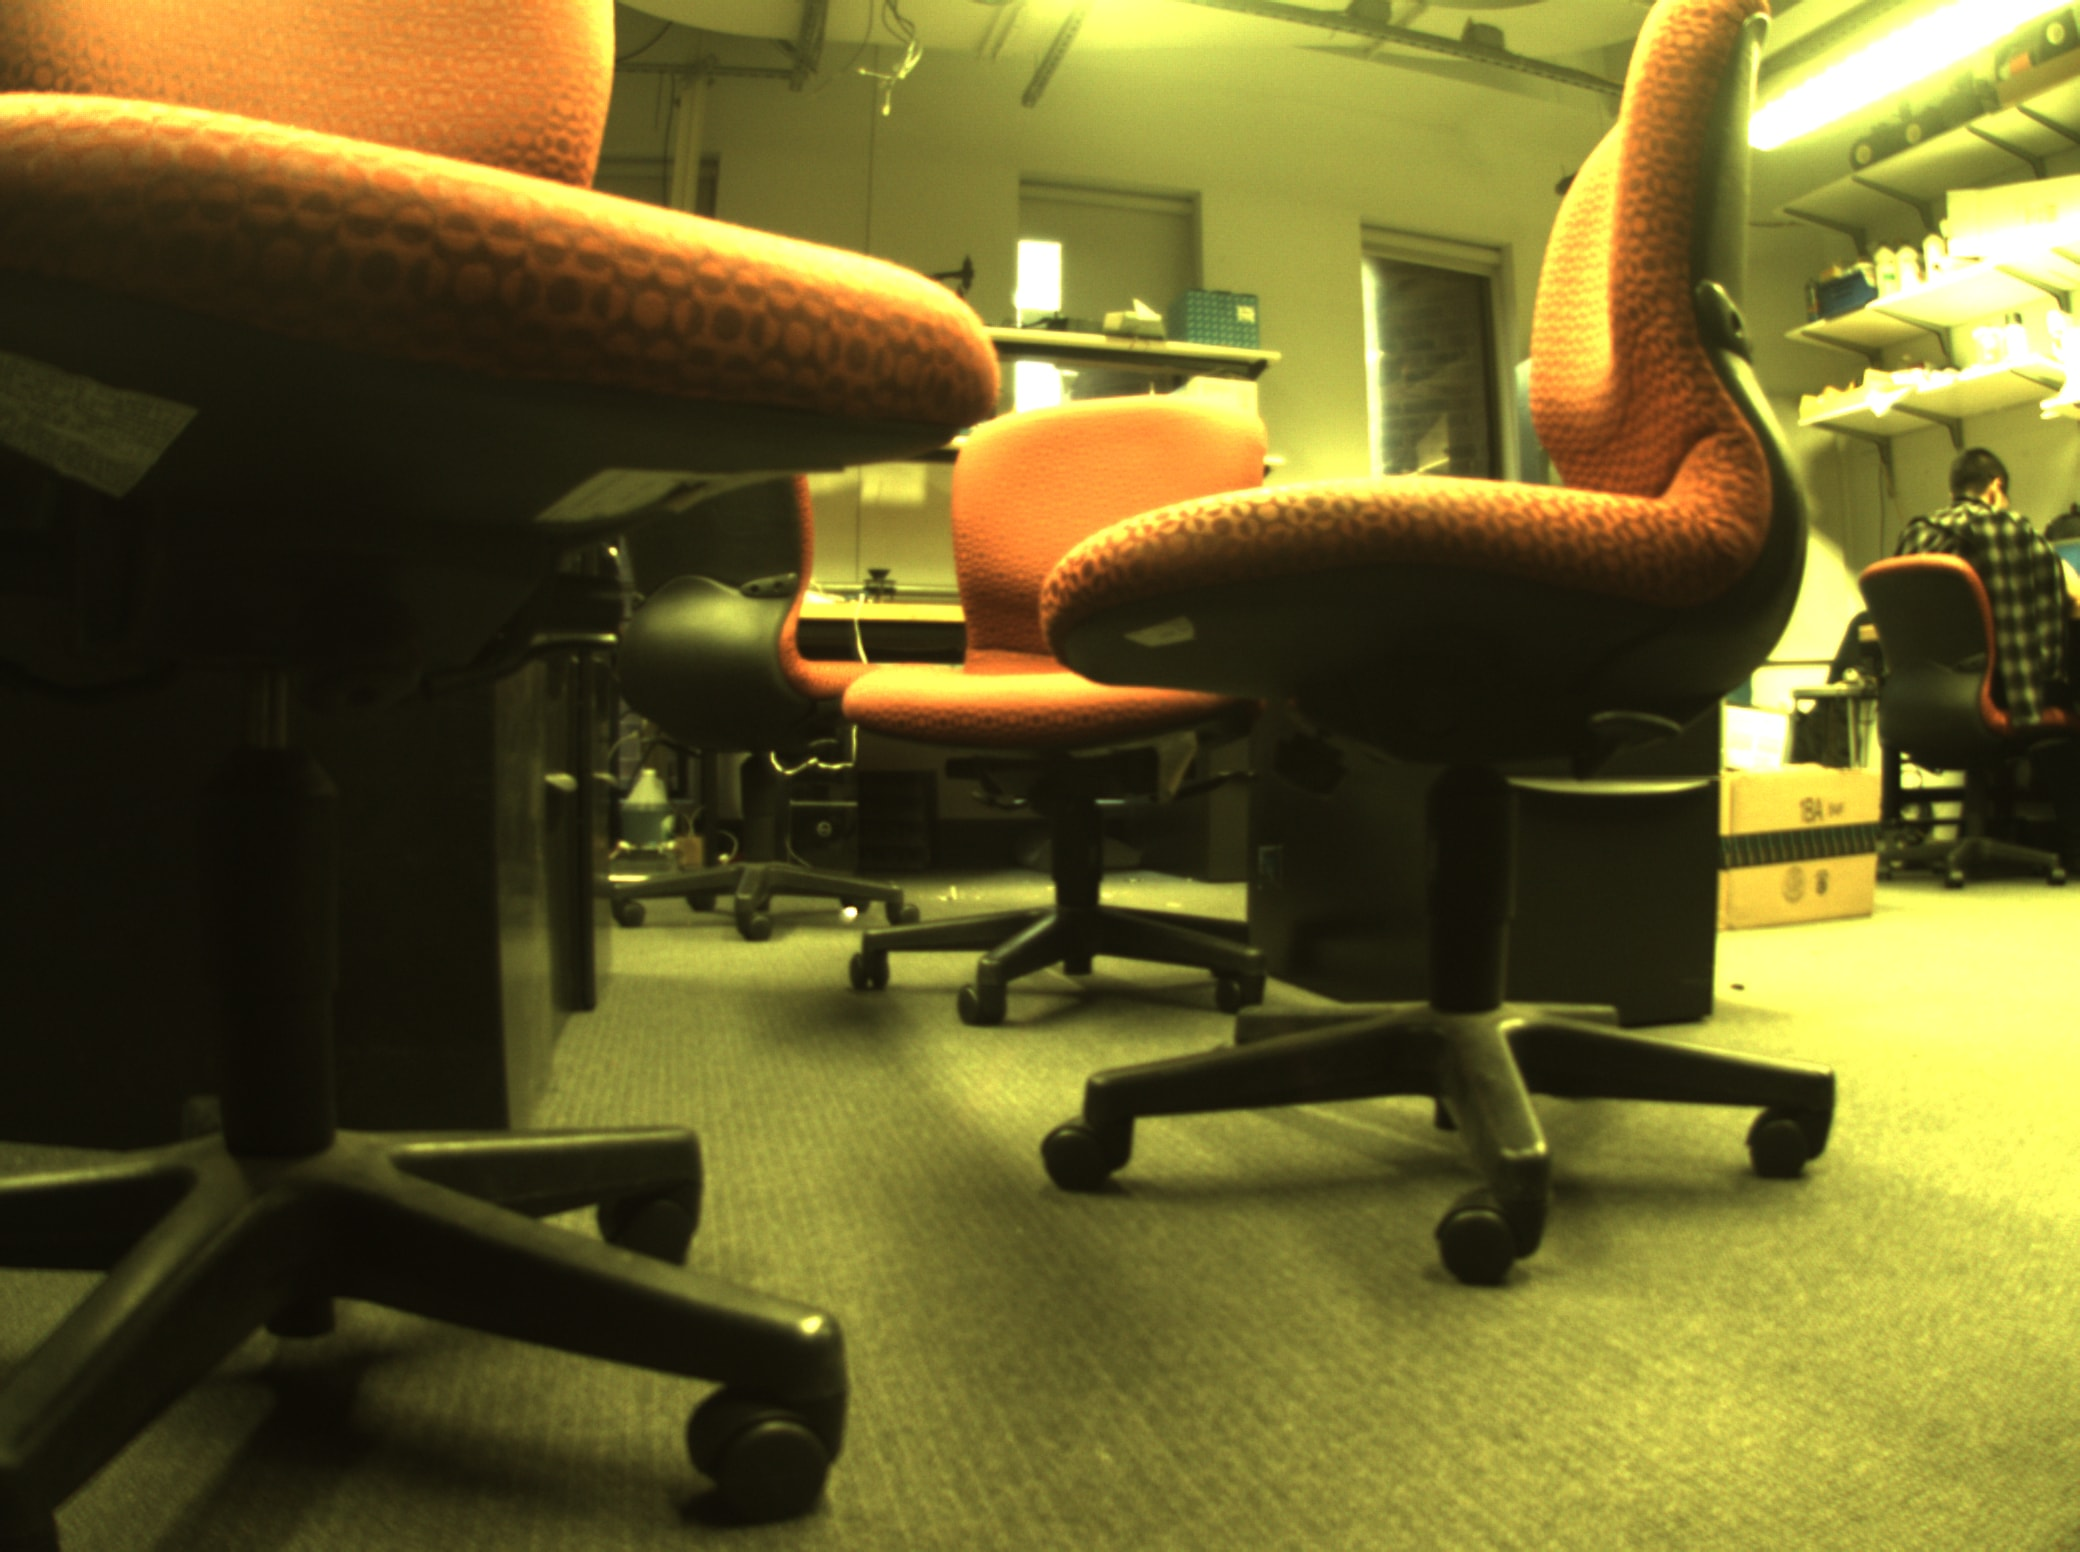chair: (1029, 3, 1858, 1285), (831, 381, 1289, 1030), (597, 430, 928, 947), (1840, 543, 2073, 905)
